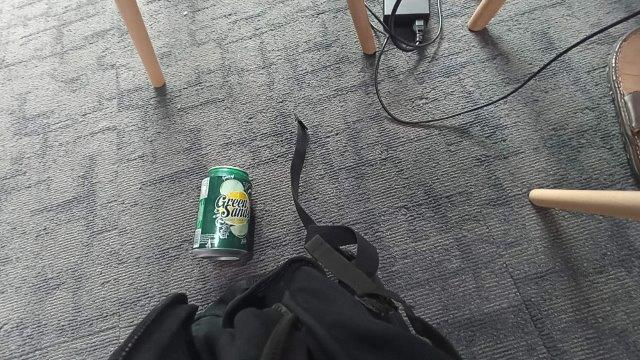kaleng: (193, 166, 252, 262)
